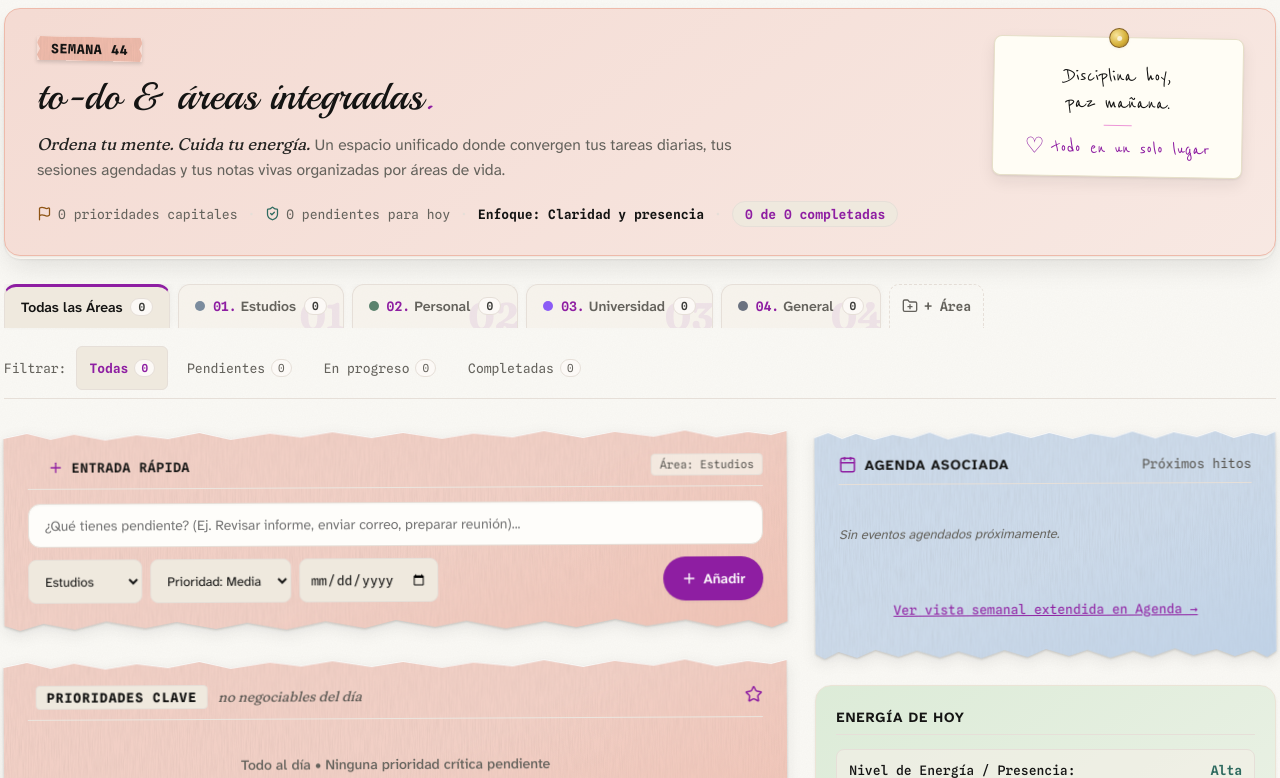
Test: TodoView › muestra mensajes explicativos contextuales cuando la lista esta vacia
The image size is (1280, 778).
Type "Tarea de prueba" into the field with placeholder "¿Qué tienes pendiente?" at (396, 524), box top-left (28, 500), bottom-right (763, 548)
Then press Enter
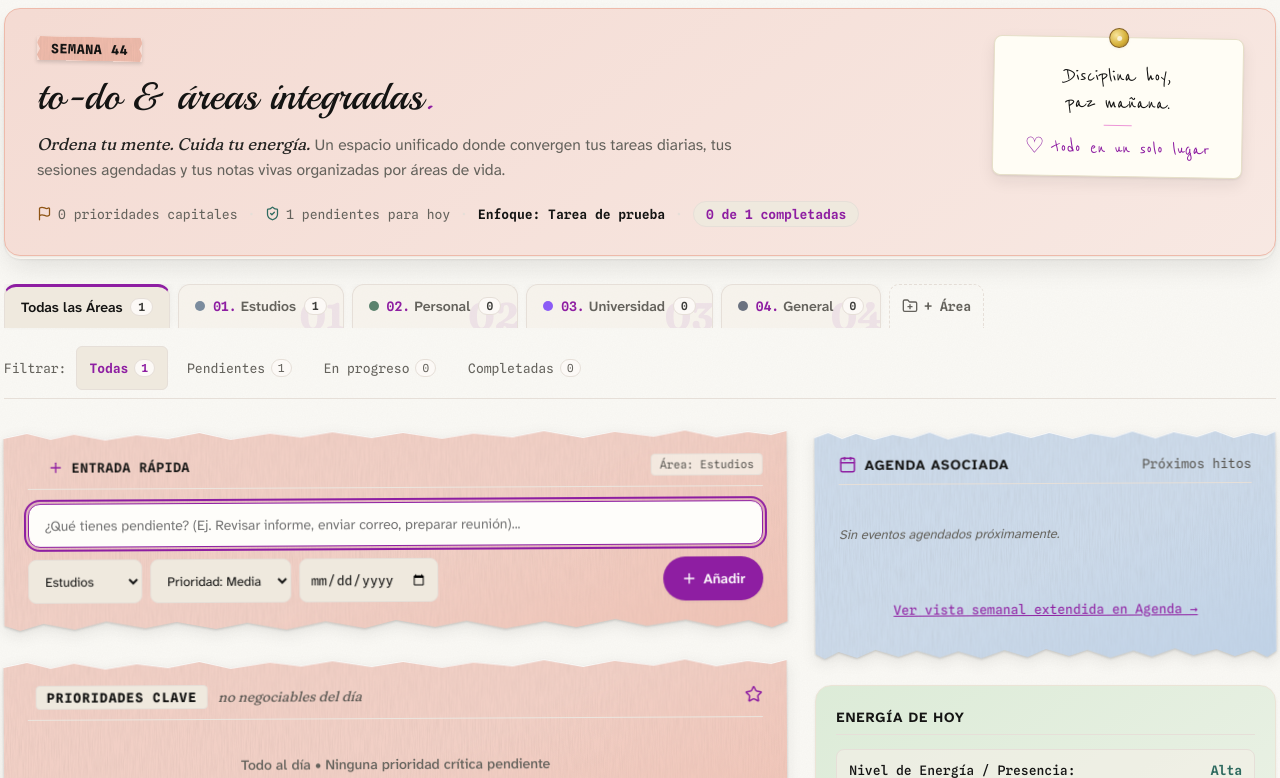
Click the button "Completadas 0" at (524, 368), box top-left (455, 346), bottom-right (594, 390)
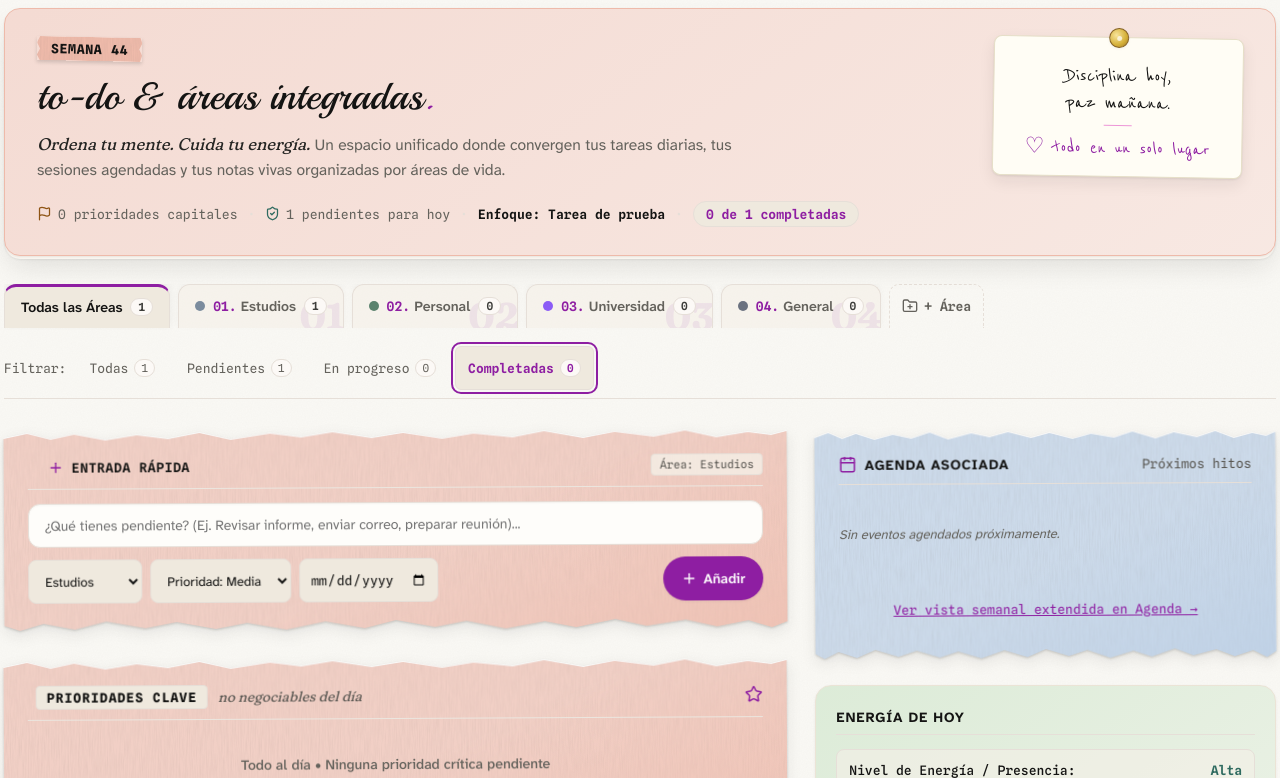
Click the button "Todas 1" at (122, 368), box top-left (76, 346), bottom-right (168, 390)
(page scrolled)
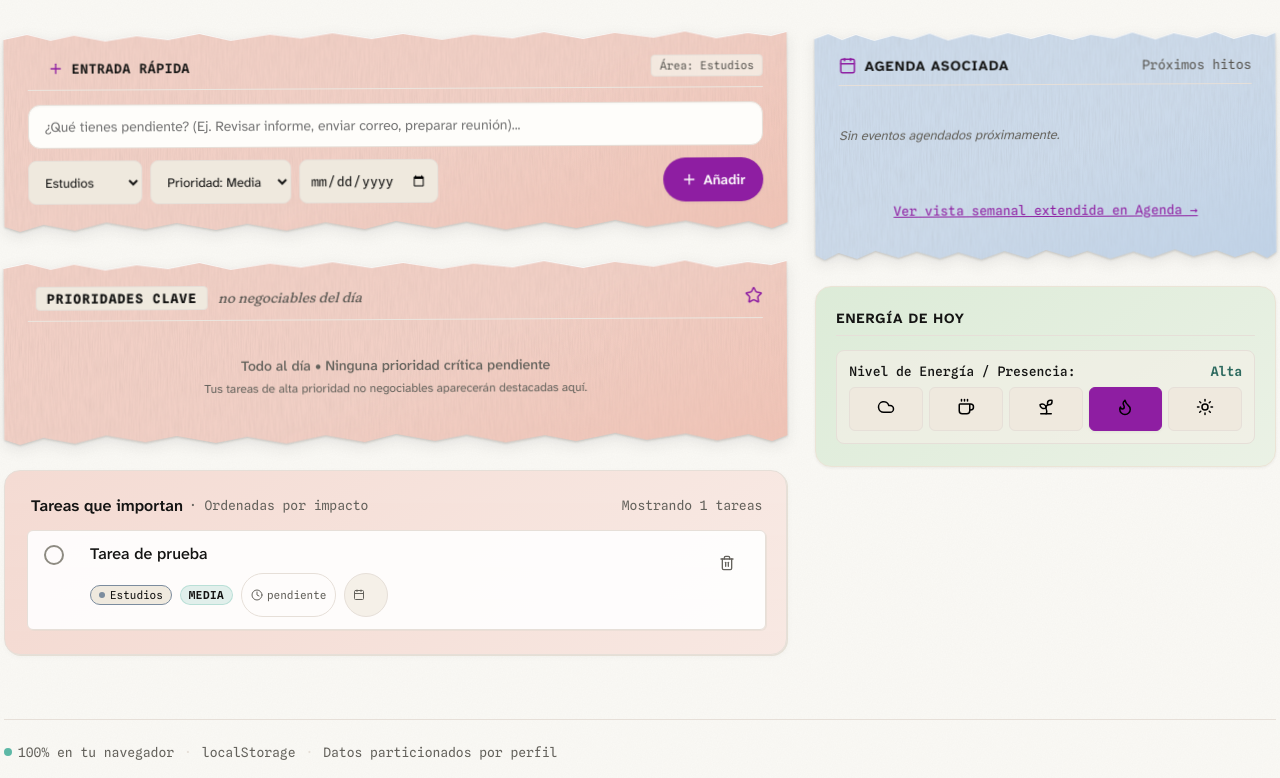
Click the checkbox named "completar tarea de prueba" at (54, 555), box top-left (44, 545), bottom-right (64, 565)
(page scrolled)
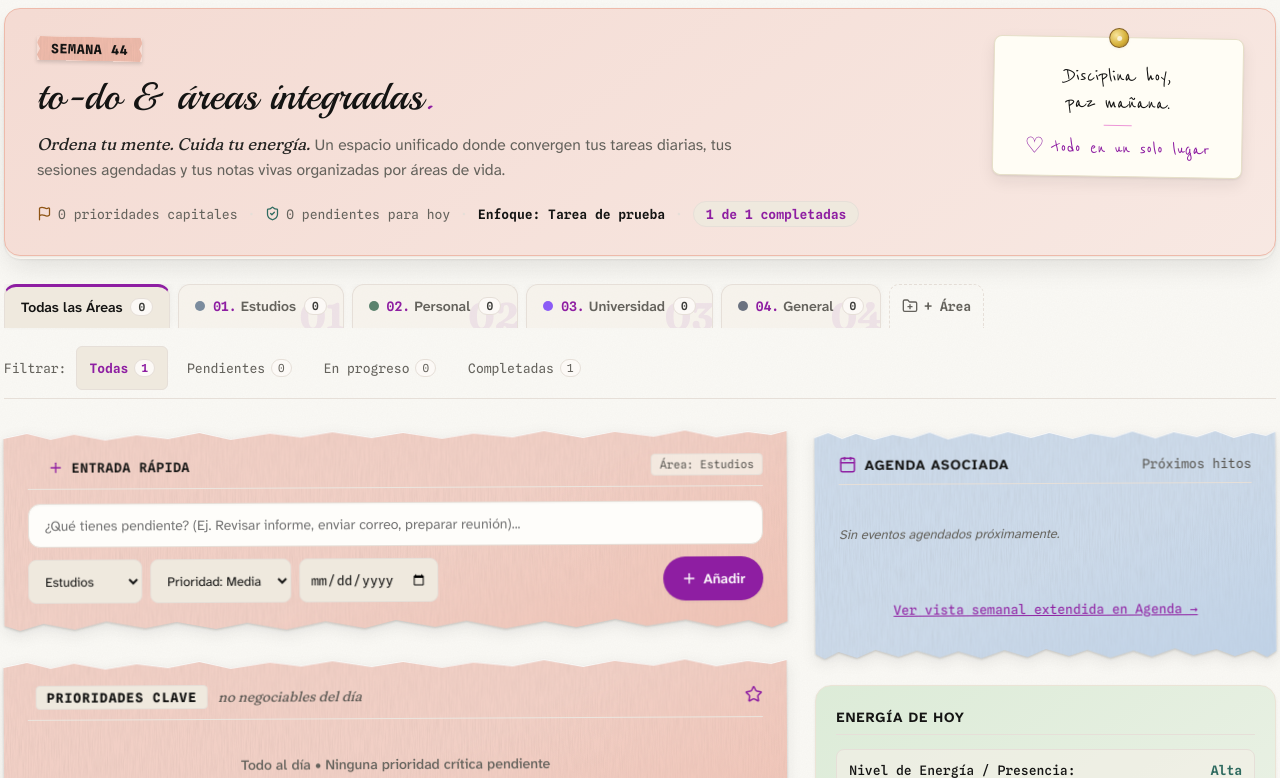
Click the button "Pendientes 0" at (239, 368), box top-left (174, 346), bottom-right (305, 390)
(page scrolled)
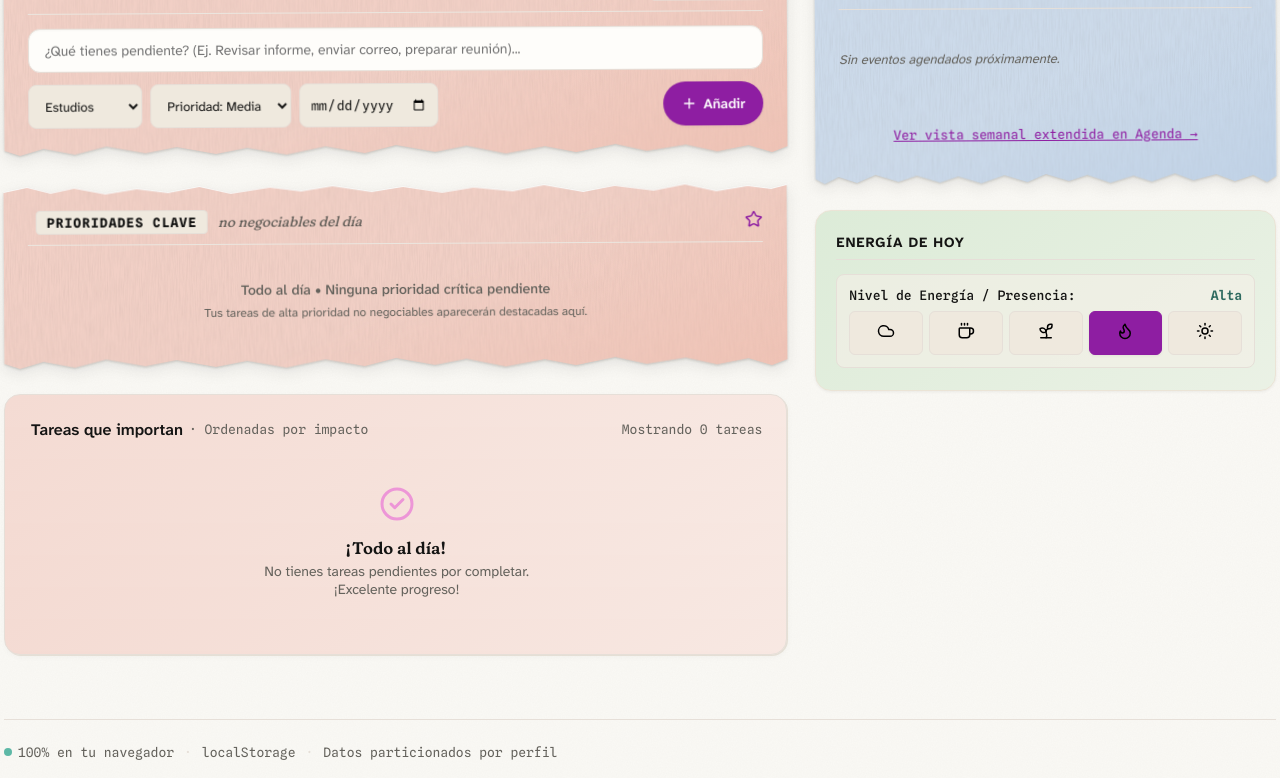
Check: the heading "¡Todo al día!" is shown, box top-left (347, 538), bottom-right (446, 558)
